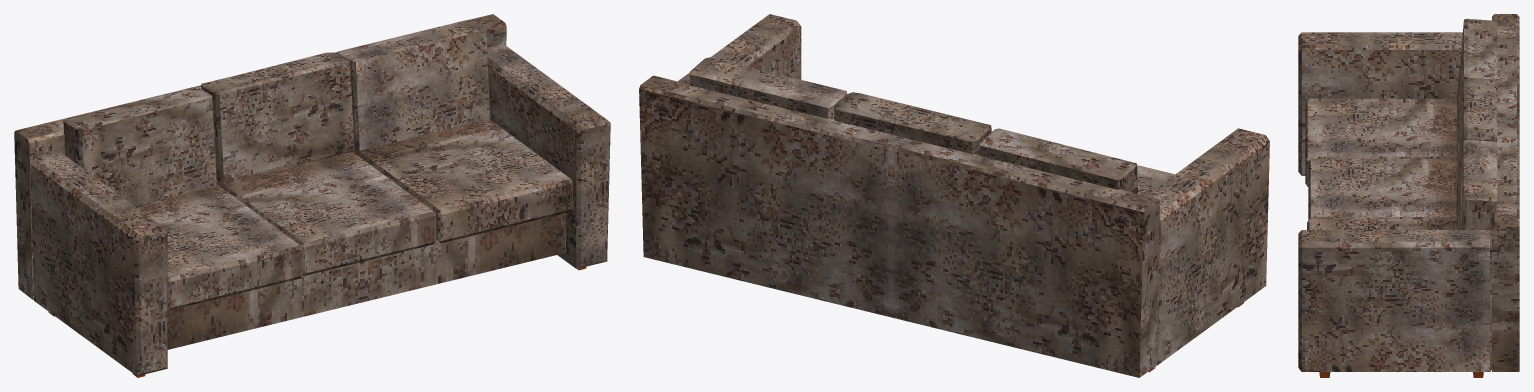
Rendered from couch_large_pattern.glb.
3 renders of one model, left to right at view 1: azimuth 30°, elevation 25°; view 2: azimuth 150°, elevation 25°; view 3: azimuth 270°, elevation 25°, orthographic. The views are drawn at different scales.
Visible parts, largest first — view 1: couch_large_pattern; view 2: couch_large_pattern; view 3: couch_large_pattern.
Boxes of the visible parts, x1=… form: couch_large_pattern: x1=14, y1=14, x2=610, y2=377; couch_large_pattern: x1=639, y1=14, x2=1269, y2=377; couch_large_pattern: x1=1298, y1=14, x2=1519, y2=377.
Bounding box in the file's own units: 3.16 × 1.19 × 1.39.
1 material, 1 textured.
